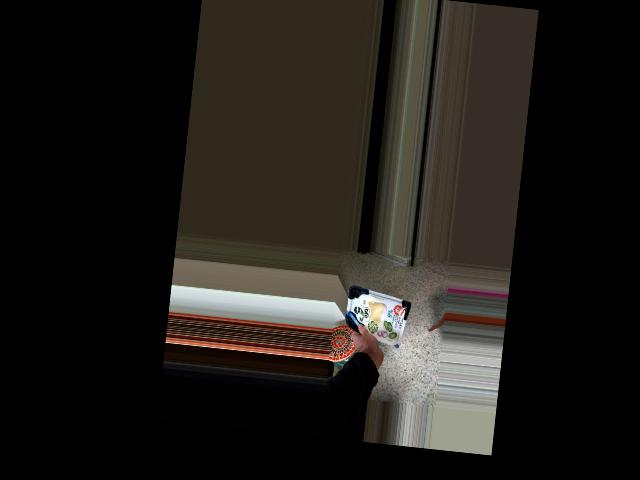cheese: (352, 302, 404, 356)
